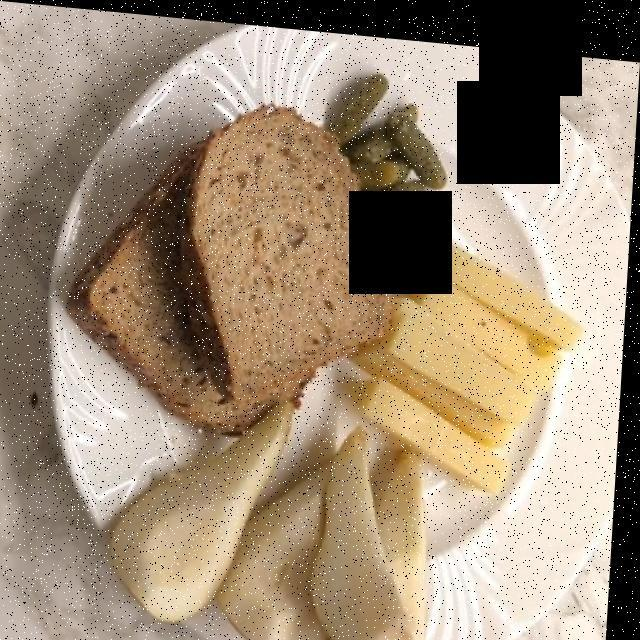bread: (100, 105, 390, 417)
cheese: (362, 254, 580, 475)
cucumber-pickled: (339, 75, 444, 222)
pear: (107, 390, 436, 640)
